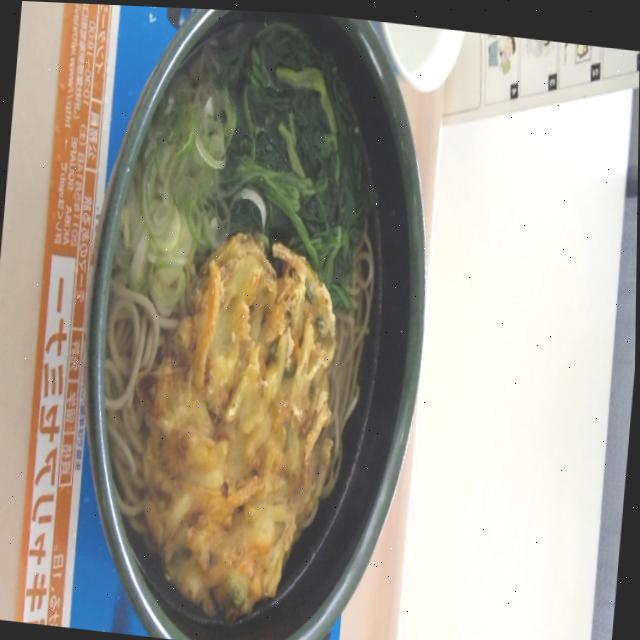面条主食: (50, 2, 439, 640)
